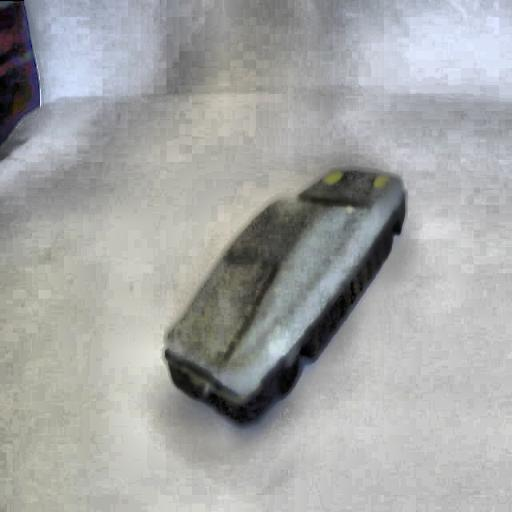normal_car: (154, 156, 414, 433)
